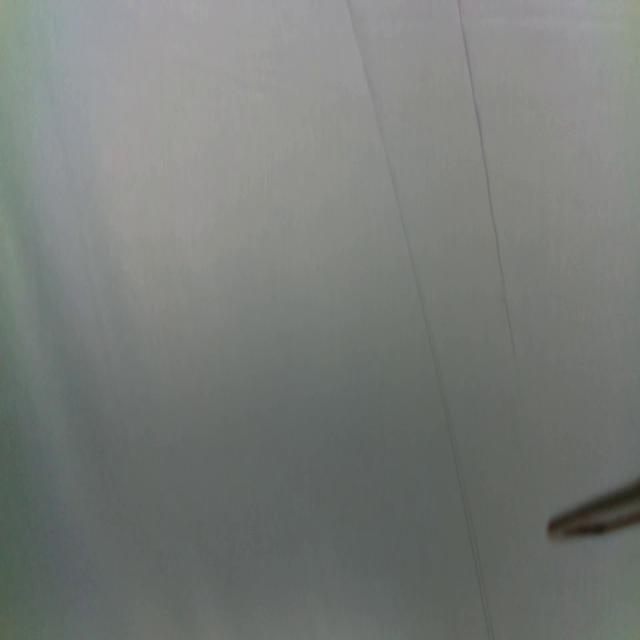crease: (349, 0, 489, 640), (458, 0, 517, 355)
